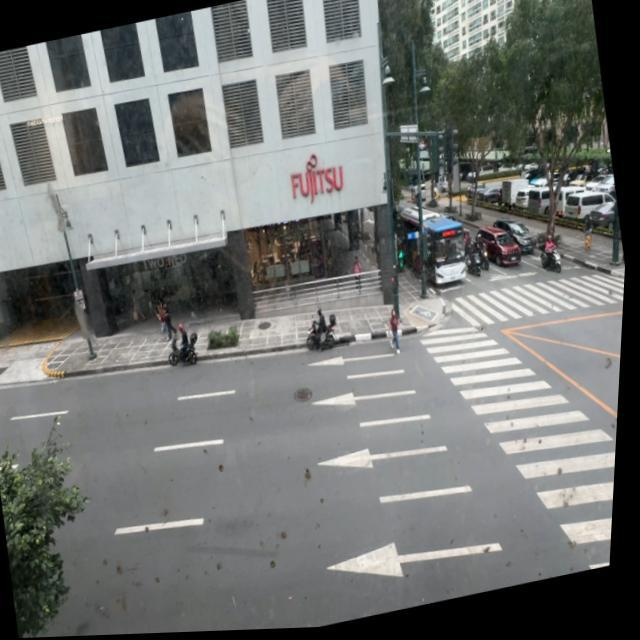jaywalking: (384, 306, 408, 355)
